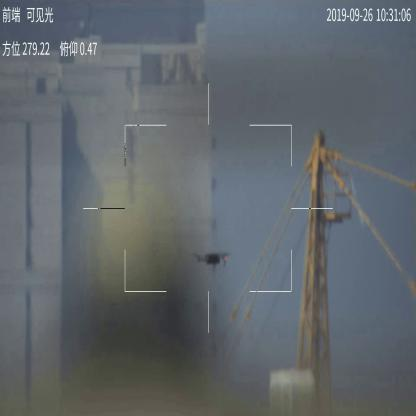uav: (192, 248, 233, 268)
